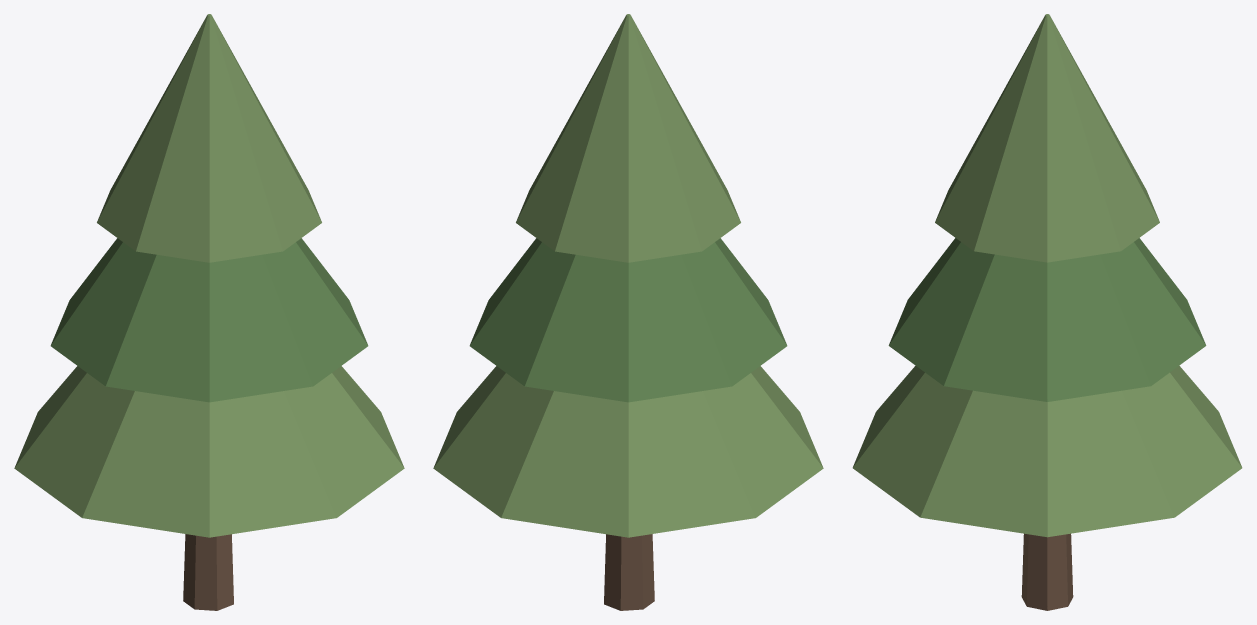
File: Pine.fbx
3 renders of one model, left to right at view 1: azimuth 30°, elevation 25°; view 2: azimuth 150°, elevation 25°; view 3: azimuth 270°, elevation 25°, orthographic.
Parts seen in each view (by area): view 1: Canopy0, Canopy1, Canopy2, Trunk; view 2: Canopy0, Canopy1, Canopy2, Trunk; view 3: Canopy0, Canopy1, Canopy2, Trunk.
Part boxes in pixels (x1=…): Canopy0: x1=14, y1=366, x2=404, y2=537; Canopy1: x1=50, y1=238, x2=368, y2=402; Canopy2: x1=97, y1=14, x2=321, y2=262; Trunk: x1=183, y1=534, x2=233, y2=610; Canopy0: x1=433, y1=366, x2=823, y2=537; Canopy1: x1=469, y1=238, x2=787, y2=402; Canopy2: x1=516, y1=14, x2=740, y2=262; Trunk: x1=604, y1=534, x2=654, y2=610; Canopy0: x1=852, y1=365, x2=1242, y2=537; Canopy1: x1=888, y1=238, x2=1206, y2=401; Canopy2: x1=935, y1=14, x2=1159, y2=262; Trunk: x1=1021, y1=533, x2=1073, y2=610.
Bounding box in the file's own units: 2.62 × 4.4 × 2.66.
